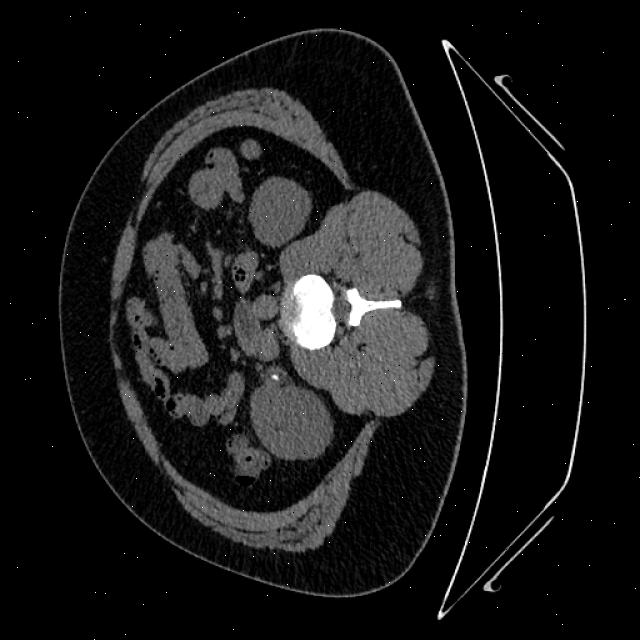kidneystone: (270, 372, 279, 380)
